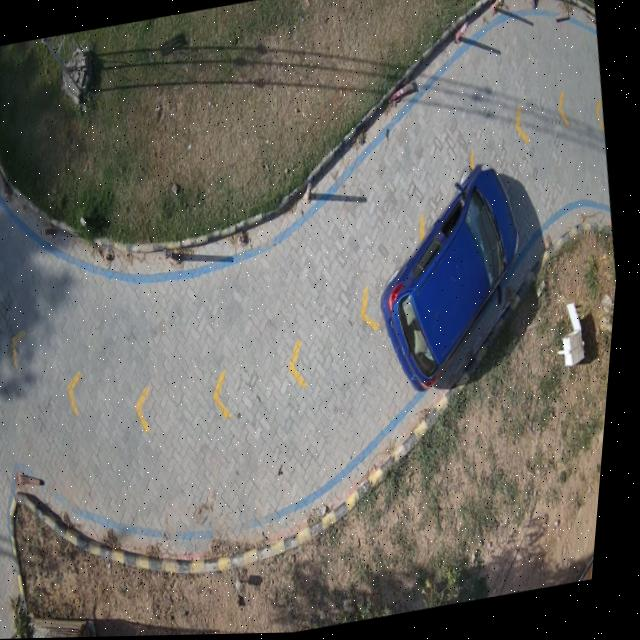car: (387, 166, 522, 392)
